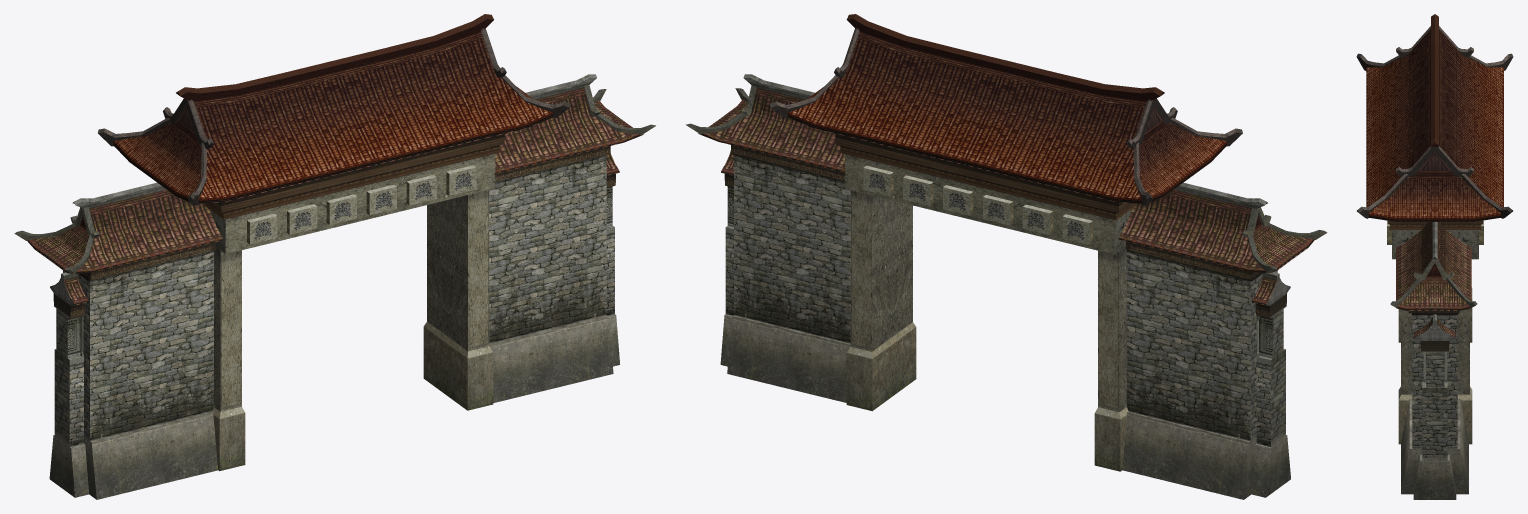
The model's file is a1-middledam-01.fbx.
3 views of the same model, side by side, from view 1: azimuth 30°, elevation 25°; view 2: azimuth 150°, elevation 25°; view 3: azimuth 270°, elevation 25° (orthographic). The views are drawn at different scales.
Parts seen in each view (by area): view 1: Object01; view 2: Object01; view 3: Object01.
Boxes of the visible parts, x1,y1,x2,y2 form: Object01: [14, 14, 655, 499]; Object01: [686, 14, 1327, 499]; Object01: [1356, 14, 1513, 499].
Bounding box in the file's own units: 22.82 × 13.67 × 6.24.
